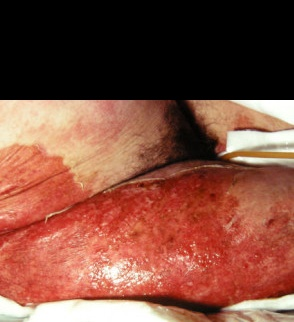SJS-TEN: (0, 98, 294, 322)
